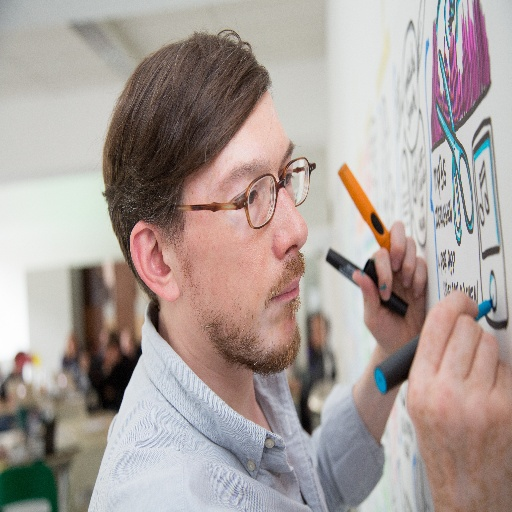hand: (402, 259, 511, 490), (350, 218, 427, 356)
